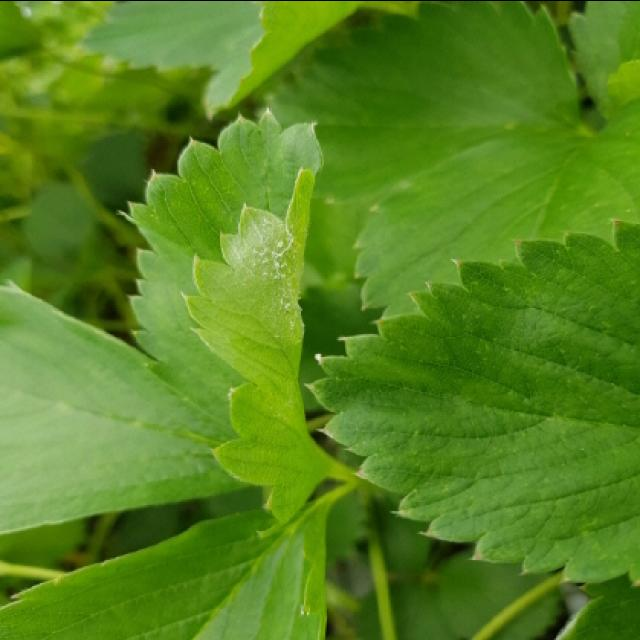Powdery Mildew Leaf: (127, 107, 353, 539)
